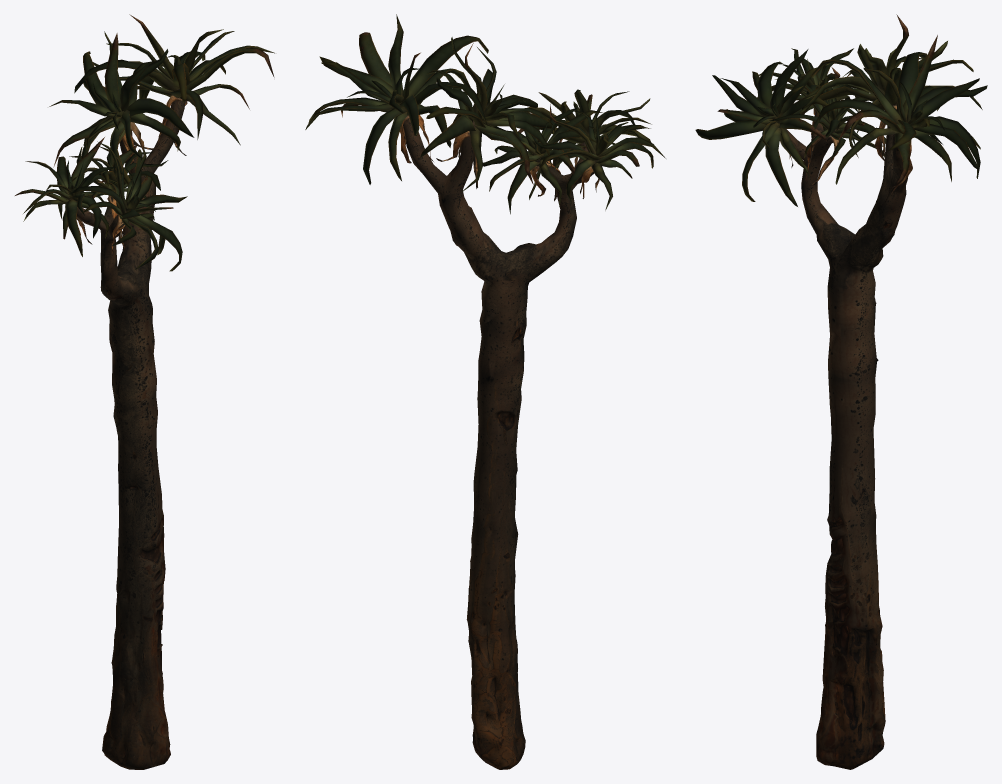
Rendered from nama_quiver_01.glb.
3 renders of one model, left to right at view 1: azimuth 30°, elevation 25°; view 2: azimuth 150°, elevation 25°; view 3: azimuth 270°, elevation 25°, orthographic. The views are drawn at different scales.
Parts seen in each view (by area): view 1: nama_quiver_01; view 2: nama_quiver_01; view 3: nama_quiver_01.
Part boxes in pixels (x1,y1,x2,y2): nama_quiver_01: (15, 14, 274, 769); nama_quiver_01: (305, 14, 665, 769); nama_quiver_01: (695, 14, 987, 769).
Size of the model in its own units: 2.35 by 5.43 by 1.92.
Materials: 2 (2 with a texture image).
